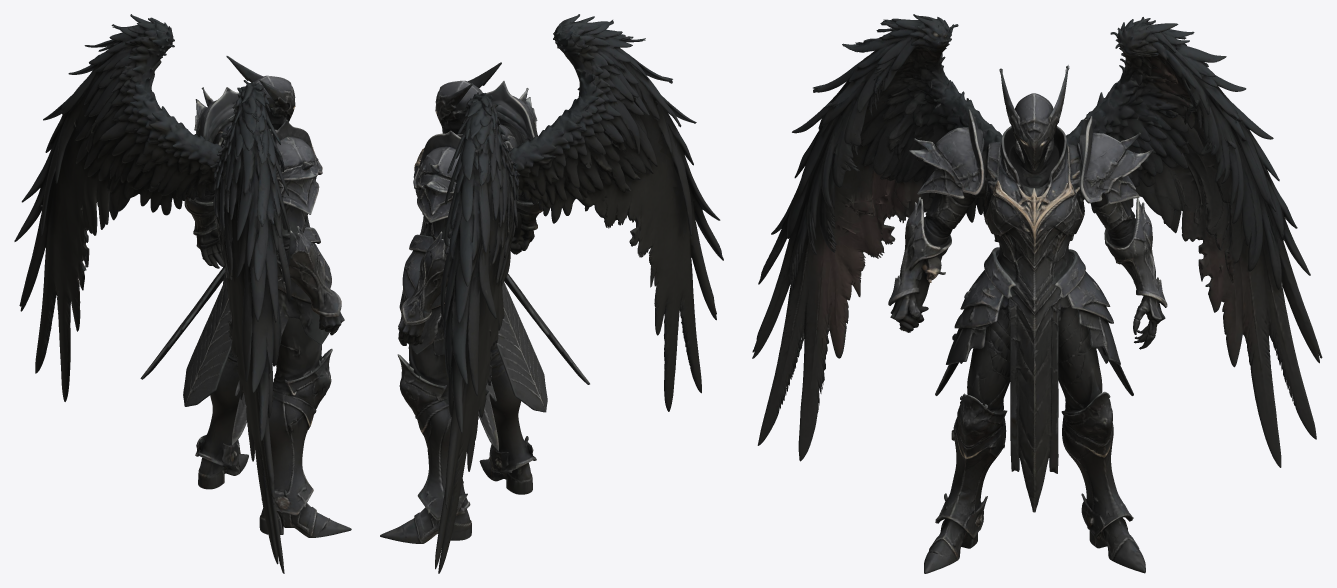
Rendered from fallen_angel_model.fbx.
The picture shows the model from 3 angles, left to right: view 1: azimuth 30°, elevation 25°; view 2: azimuth 150°, elevation 25°; view 3: azimuth 270°, elevation 25°; orthographic projection. The views are drawn at different scales.
Parts seen in each view (by area): view 1: tripo_node_70f7bb3e; view 2: tripo_node_70f7bb3e; view 3: tripo_node_70f7bb3e.
Part boxes in pixels (x1,y1,x2,y2): tripo_node_70f7bb3e: (14,14,351,573); tripo_node_70f7bb3e: (380,14,723,573); tripo_node_70f7bb3e: (752,14,1322,573).
Bounding box in the file's own units: 39.83 × 96.82 × 98.49.
